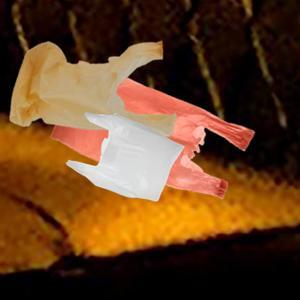plastic_bag: (44, 57, 257, 202), (6, 31, 179, 139), (66, 111, 183, 204)
